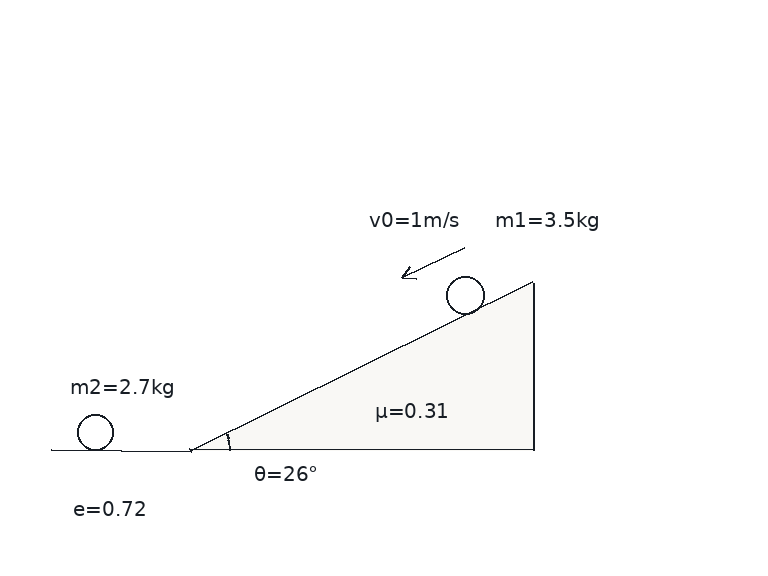ball: (444, 274, 486, 316), (75, 412, 115, 452)
ramp: (188, 281, 535, 452)
